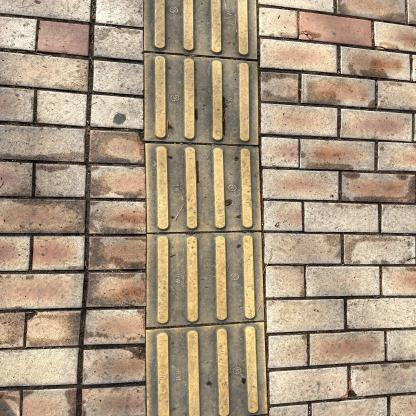podotacti: (131, 0, 280, 415)
